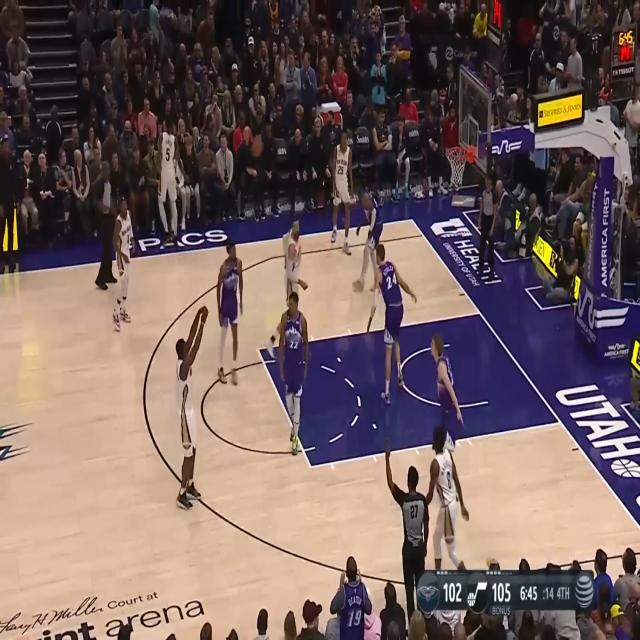Ball: (251, 135, 264, 158)
Clock: (612, 26, 636, 66), (489, 0, 503, 34)
Hoop: (446, 144, 470, 188)
Overlay: (416, 569, 597, 616)
Player: (368, 239, 419, 404), (174, 301, 209, 508), (426, 426, 470, 570), (266, 217, 308, 359), (430, 332, 465, 496), (278, 292, 308, 456), (217, 235, 244, 386), (330, 129, 356, 257), (354, 184, 384, 294), (111, 194, 134, 332)
Ref: (386, 442, 429, 638), (92, 160, 120, 291), (477, 175, 498, 280)
Scoreboard: (416, 569, 573, 617)
